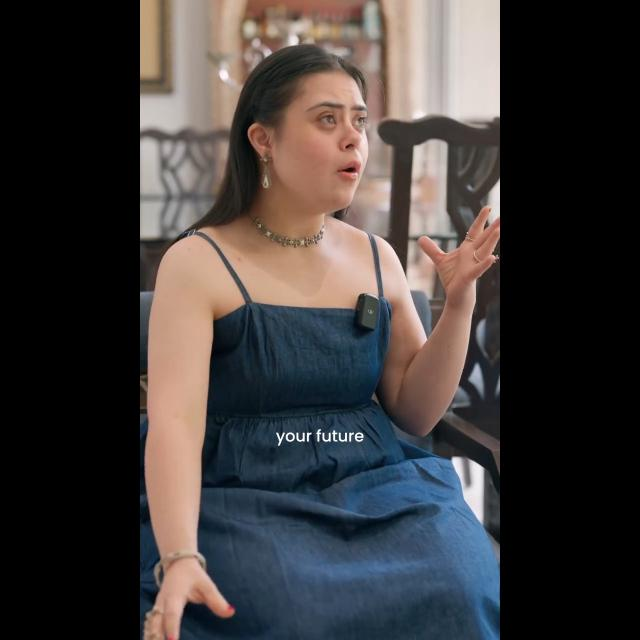dress: (187, 228, 496, 640)
